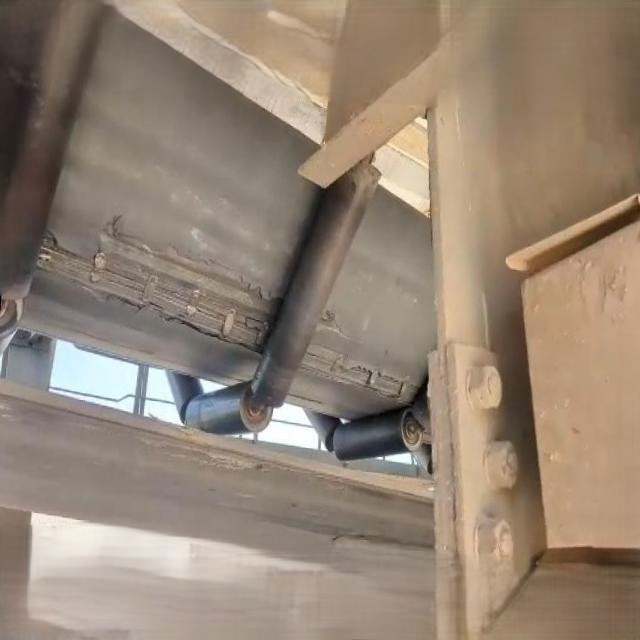Tear: (34, 211, 284, 359), (298, 346, 420, 404)
Wear: (314, 302, 348, 342)
